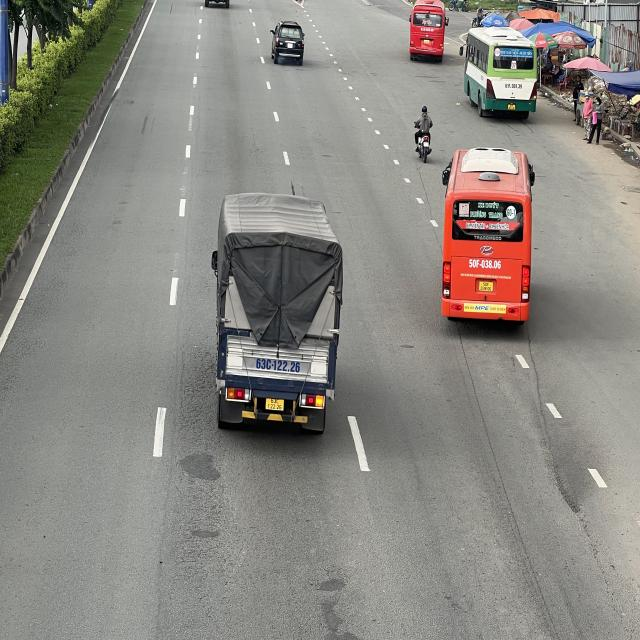car: (270, 22, 305, 66)
coach: (441, 146, 537, 324), (459, 24, 540, 120), (409, 3, 449, 62)
truck: (216, 192, 346, 444)
